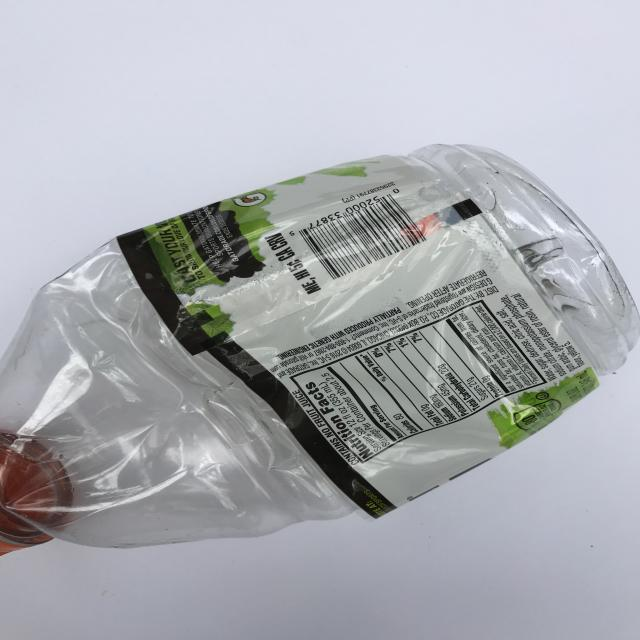plastic: (0, 142, 640, 560)
